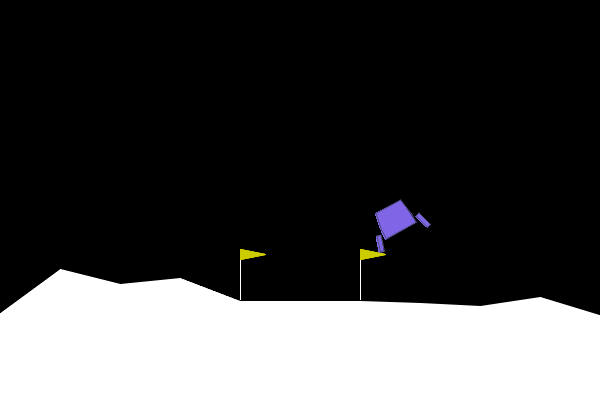lander: (360, 191, 432, 255)
